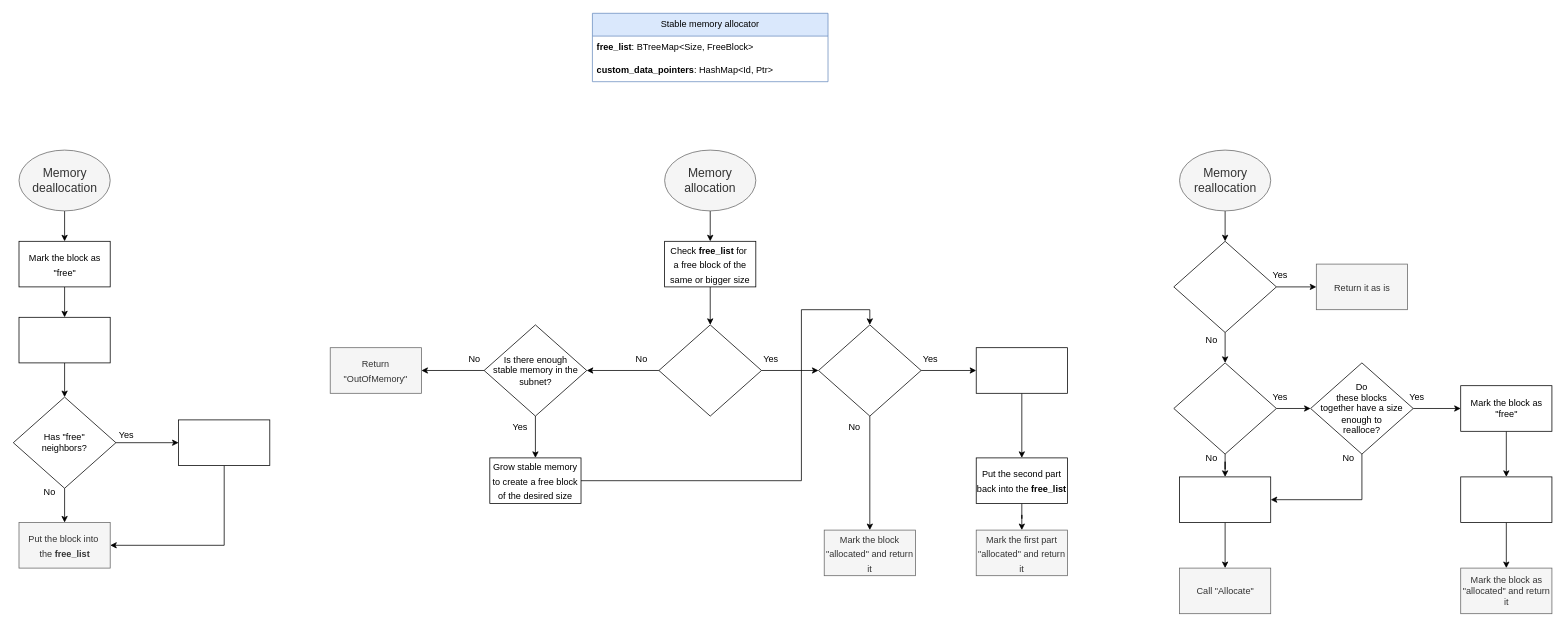
The diagram is 1566 pixels wide and 627 high, and some of its shapes have lost their labels. Here are the shapes that lost their labels. From the top down, the box of each, then its label:
(1173, 241, 1276, 332): Is the block already of required or bigger size?
(18, 317, 110, 363): Check if the block has "free" neighbors (physically)
(658, 324, 762, 416): Is there such a free block?
(818, 324, 921, 416): Can this free block be split in two? (is bigger than needed)
(975, 347, 1067, 393): Split the block
(1173, 362, 1276, 454): Is the right (physically) neighbor "free"?
(178, 419, 270, 466): Merge the block with free neighbors
(1179, 476, 1271, 522): Call "Deallocate"
(1460, 476, 1552, 522): Merge with the right neighbor
